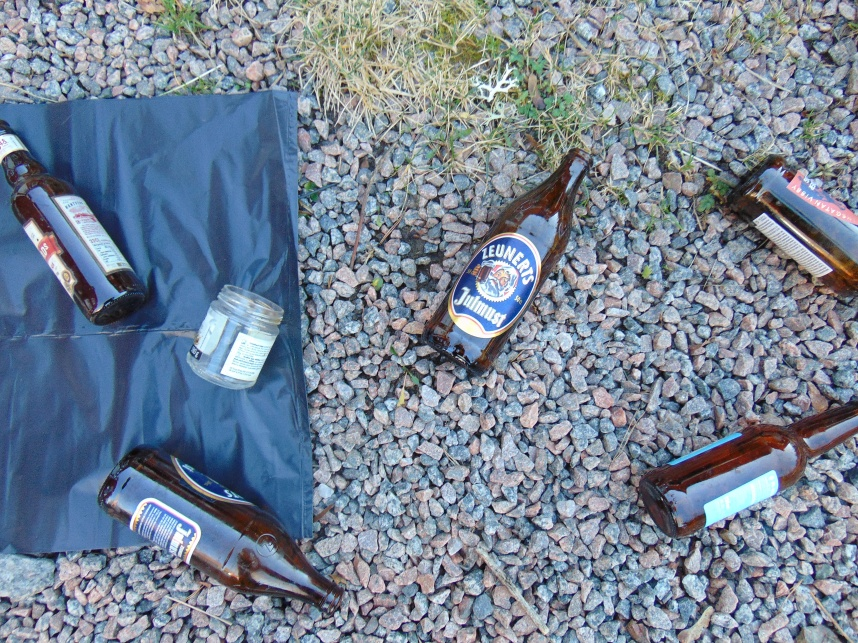glass_bottle: (100, 444, 344, 615), (423, 148, 594, 372), (638, 397, 858, 537), (1, 117, 145, 326), (730, 156, 858, 295), (185, 284, 288, 391)
